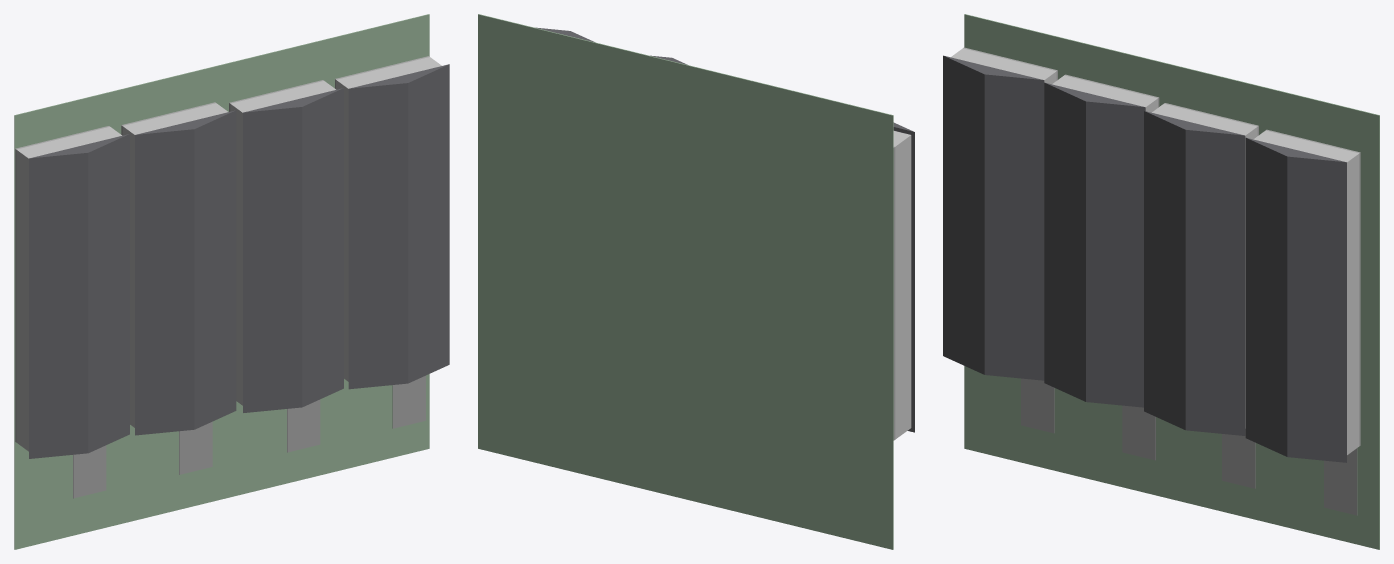
3 views of the same model, side by side, from view 1: azimuth 30°, elevation 25°; view 2: azimuth 150°, elevation 25°; view 3: azimuth 330°, elevation 25° (orthographic).
Visible parts, largest first — view 1: site_ground, unit4_roof, unit2_roof, unit1_roof, unit3_roof, unit1_wall_left, unit3_wall_left, unit4_wall_left, unit2_wall_left, unit3_driveway, unit4_driveway, unit1_driveway (+6 smaller); view 2: site_ground, unit1_wall_left, unit1_roof, unit1_slab; view 3: site_ground, unit1_roof, unit4_roof, unit3_roof, unit2_roof, unit4_wall_right, unit4_driveway, unit3_driveway, unit1_driveway, unit2_driveway, unit4_wall_rear, unit3_wall_rear (+3 smaller).
Boxes of the visible parts, left/top/right/bottom form: site_ground: left=14, top=14, right=429, bottom=549; unit4_roof: left=348, top=64, right=449, bottom=389; unit2_roof: left=135, top=110, right=236, bottom=435; unit1_roof: left=29, top=134, right=129, bottom=458; unit3_roof: left=243, top=88, right=343, bottom=412; unit1_wall_left: left=16, top=149, right=29, bottom=451; unit3_wall_left: left=230, top=103, right=244, bottom=405; unit4_wall_left: left=336, top=79, right=349, bottom=381; unit2_wall_left: left=122, top=125, right=136, bottom=427; unit3_driveway: left=287, top=399, right=320, bottom=452; unit4_driveway: left=392, top=375, right=425, bottom=428; unit1_driveway: left=73, top=445, right=106, bottom=498; site_ground: left=478, top=14, right=893, bottom=549; unit1_wall_left: left=893, top=134, right=911, bottom=439; unit1_roof: left=893, top=122, right=914, bottom=432; unit1_slab: left=893, top=146, right=895, bottom=440; site_ground: left=964, top=14, right=1379, bottom=549; unit1_roof: left=943, top=55, right=1044, bottom=380; unit4_roof: left=1245, top=137, right=1346, bottom=462; unit3_roof: left=1144, top=111, right=1245, bottom=435; unit2_roof: left=1044, top=82, right=1145, bottom=407; unit4_wall_right: left=1345, top=153, right=1359, bottom=454; unit4_driveway: left=1324, top=448, right=1357, bottom=515; unit3_driveway: left=1222, top=429, right=1255, bottom=488; unit1_driveway: left=1021, top=378, right=1054, bottom=433; unit2_driveway: left=1122, top=405, right=1155, bottom=460; unit4_wall_rear: left=1256, top=131, right=1356, bottom=161; unit3_wall_rear: left=1154, top=104, right=1255, bottom=134.
Size of the model in its own units: 40.35 by 40 by 5.98.
